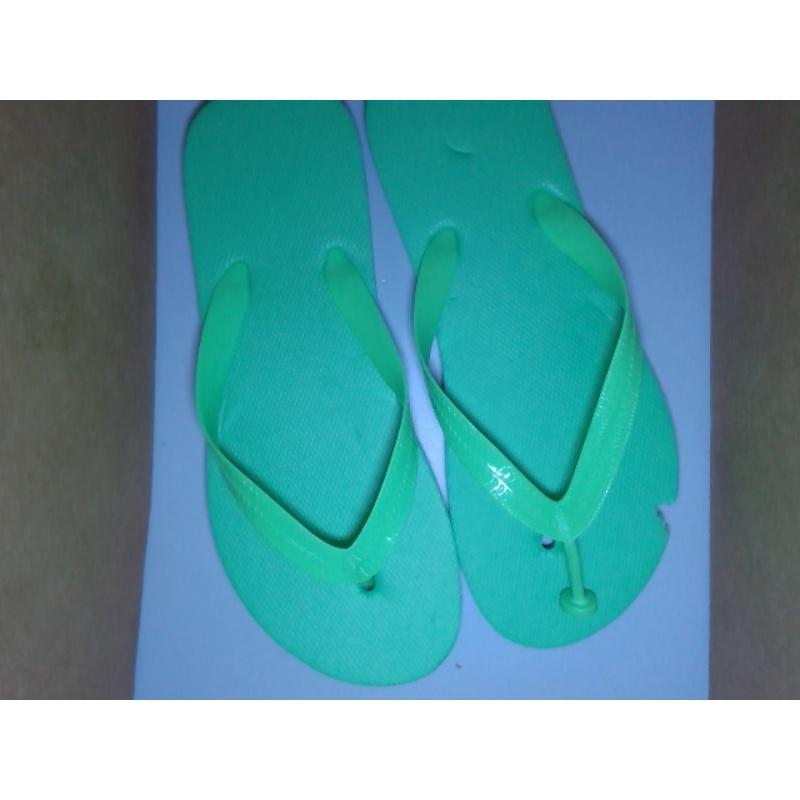chipped: (644, 484, 687, 555)
detached: (547, 565, 605, 625)
